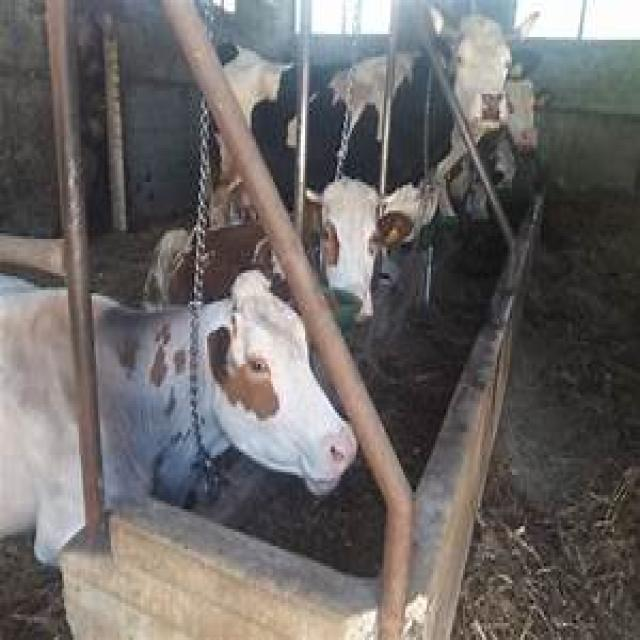cow: (196, 270, 356, 494), (0, 277, 85, 562), (94, 297, 201, 504), (309, 177, 449, 320), (224, 47, 295, 208), (450, 15, 534, 148), (308, 55, 384, 191), (388, 55, 452, 189), (204, 225, 281, 301), (144, 230, 192, 302)
